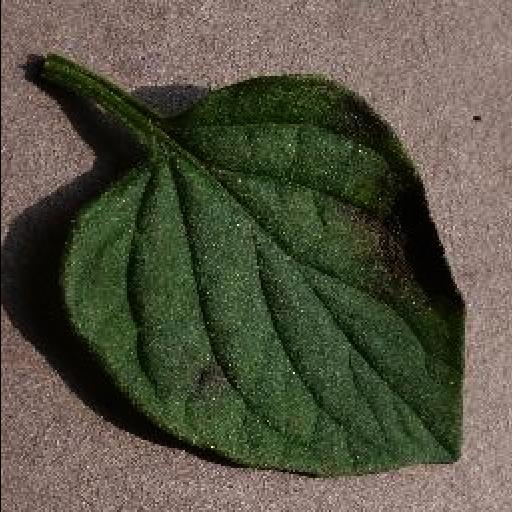disease_tomato: (58, 74, 476, 480)
